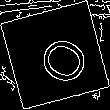O_NW: (22, 24, 88, 86)
